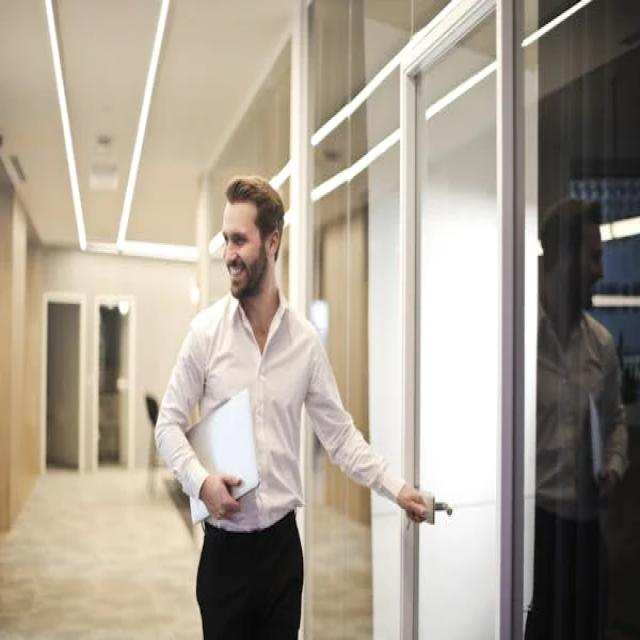Real human 2: (147, 167, 429, 640)
